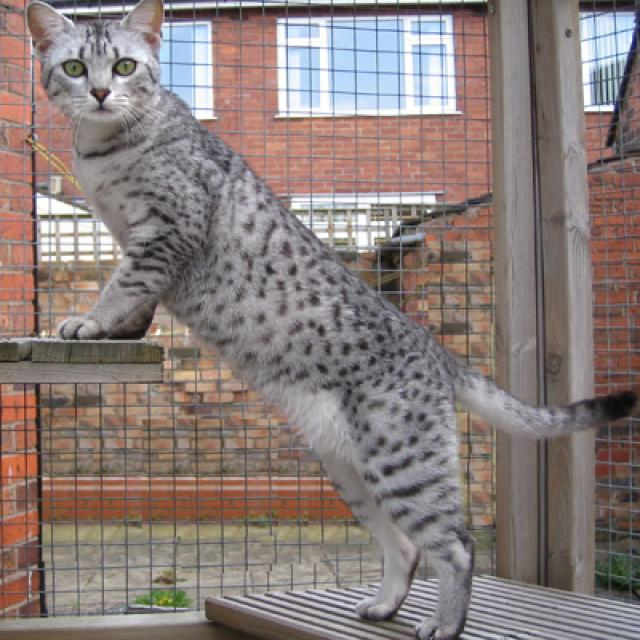cat: (26, 0, 162, 122)
